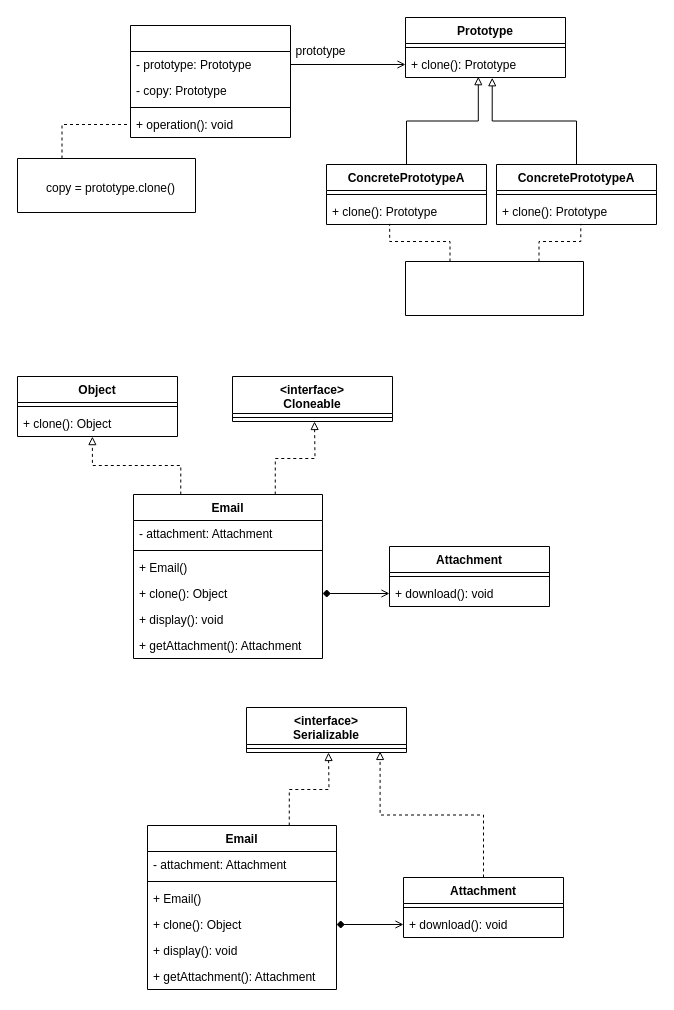
Image size: 674x1010. Some labels were removed from this diagram. The box of each missing label's shape, as (x1, y1, x2, y2) in pixels:
Client: (130, 24, 290, 138)
return copy of self;: (404, 260, 584, 316)
